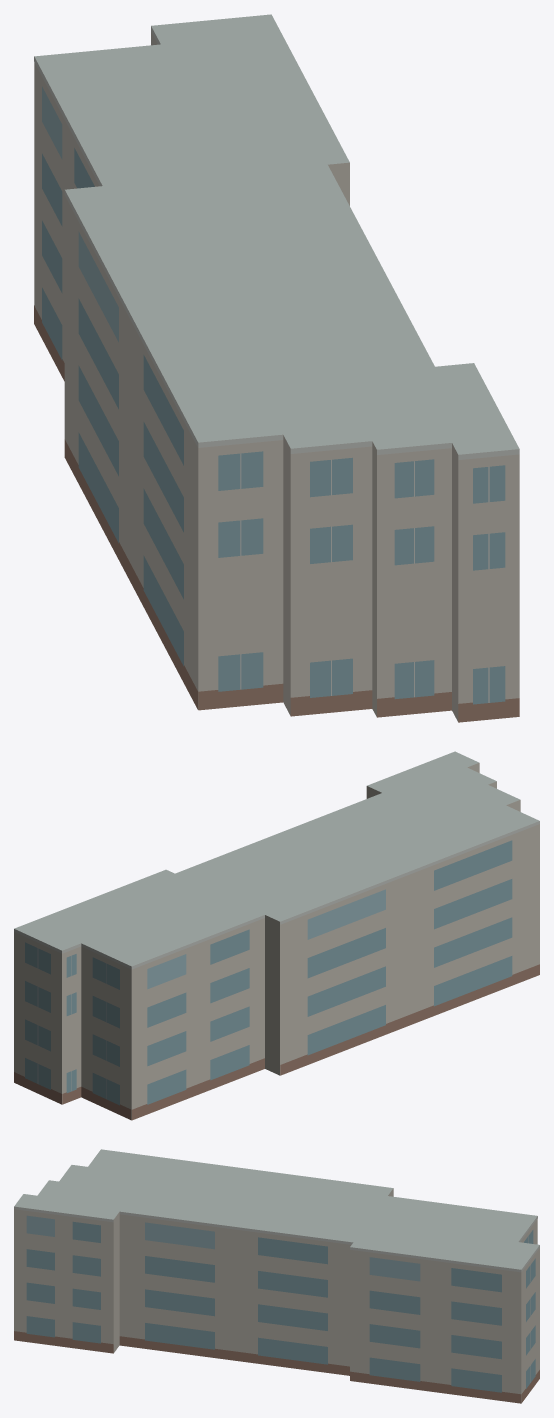
Rendered from residential-57d57f9e-fac9-4e12-a14d-4d7be389a727.glb.
3 views of the same model, one above another, from view 1: azimuth 30°, elevation 25°; view 2: azimuth 150°, elevation 25°; view 3: azimuth 270°, elevation 25° (orthographic). The views are drawn at different scales.
Visible parts, largest first — view 1: residential-57d57f9e-fac9-4e12-a14d-4d7be389a727.tmp; view 2: residential-57d57f9e-fac9-4e12-a14d-4d7be389a727.tmp; view 3: residential-57d57f9e-fac9-4e12-a14d-4d7be389a727.tmp.
Part boxes in pixels (<box>): residential-57d57f9e-fac9-4e12-a14d-4d7be389a727.tmp: <box>34,14,519,722</box>; residential-57d57f9e-fac9-4e12-a14d-4d7be389a727.tmp: <box>14,751,539,1120</box>; residential-57d57f9e-fac9-4e12-a14d-4d7be389a727.tmp: <box>14,1149,539,1403</box>.
Bounding box in the file's own units: 23.56 × 12.2 × 43.45.
